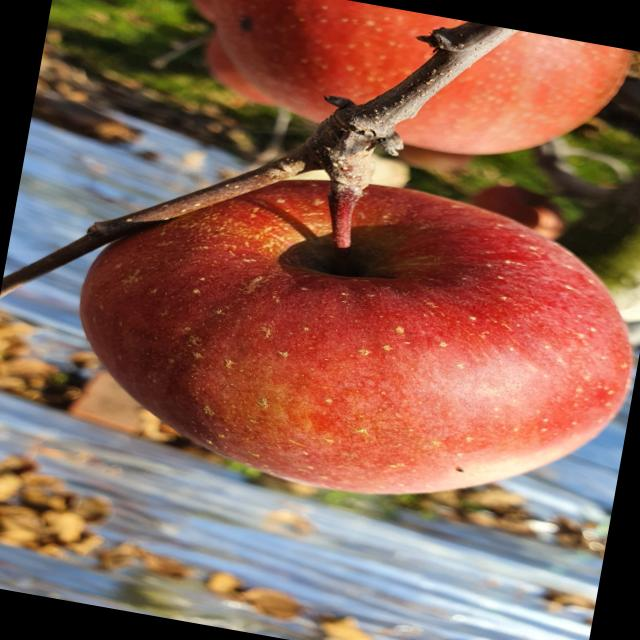fresh: (37, 119, 640, 547)
